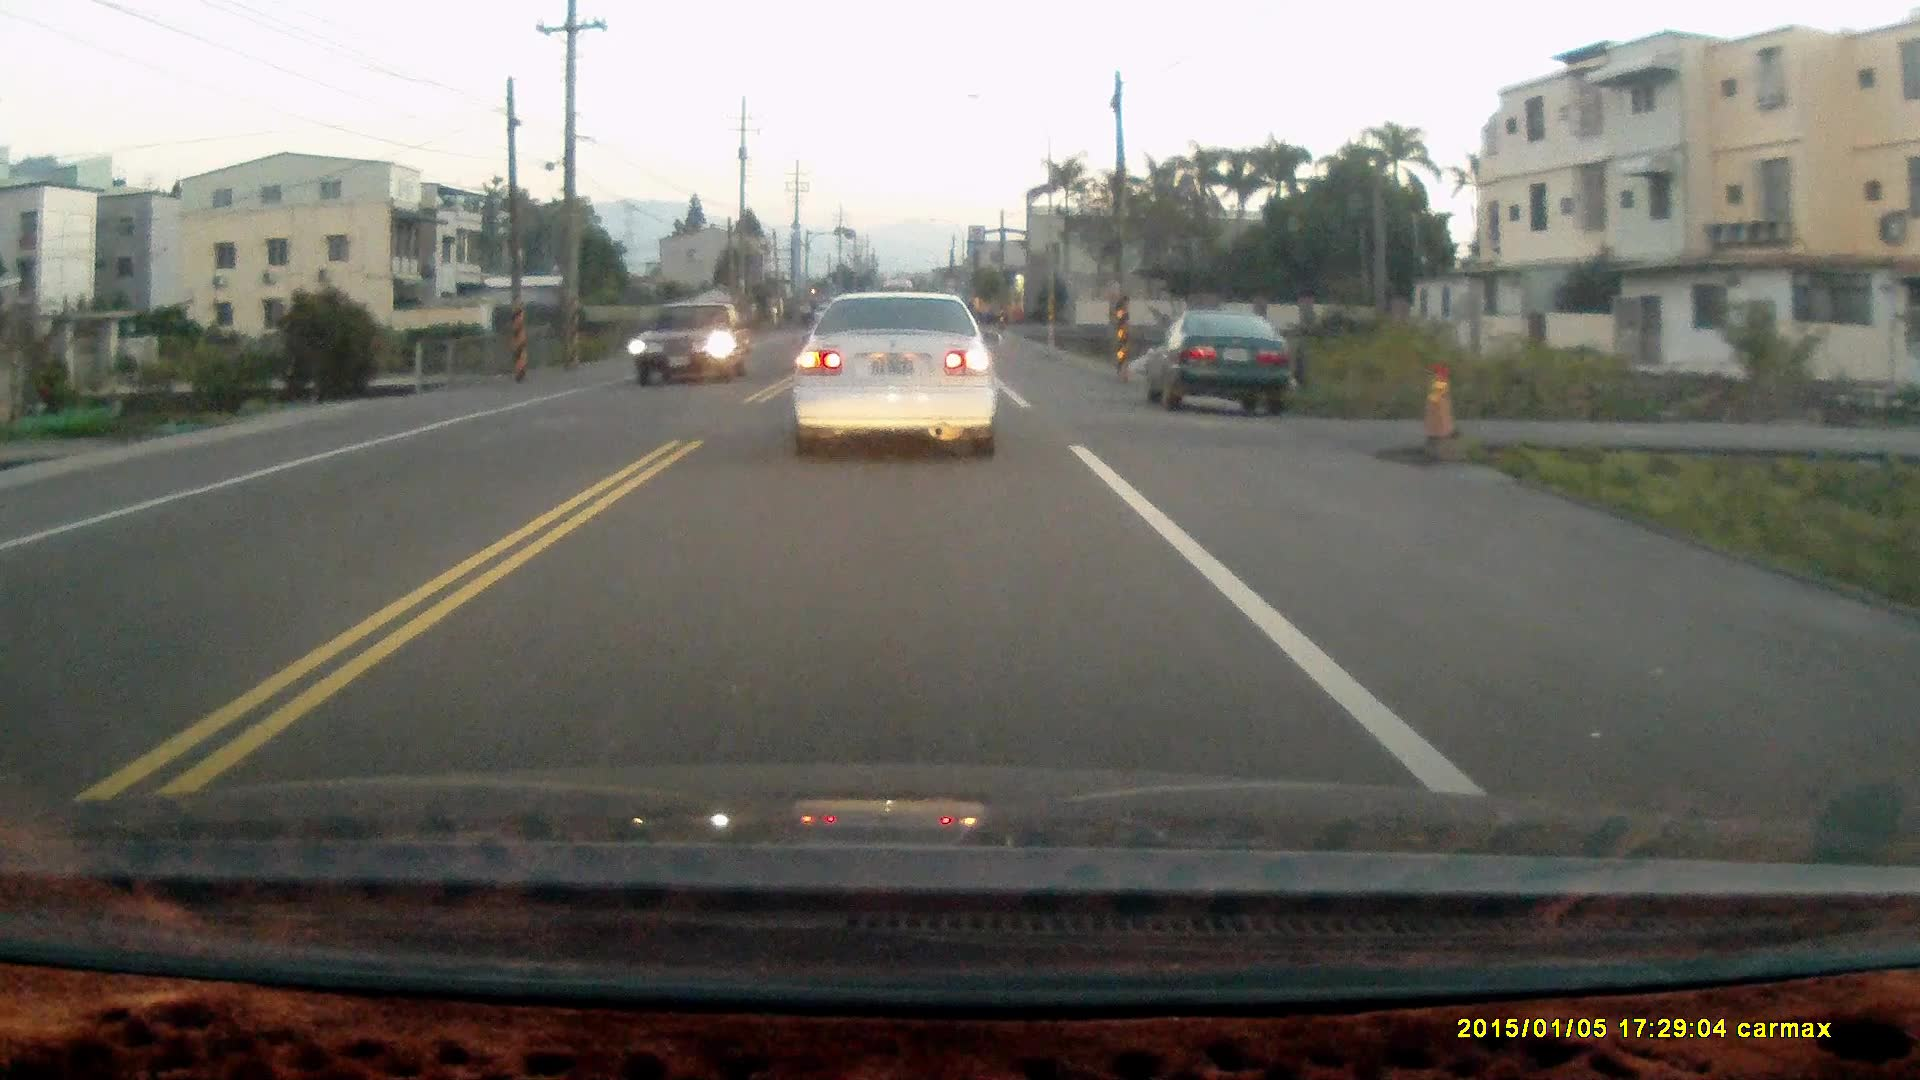pedestrian: (1286, 338, 1307, 388)
vehicle: (786, 284, 1002, 456), (1155, 307, 1302, 417), (630, 294, 746, 382)
